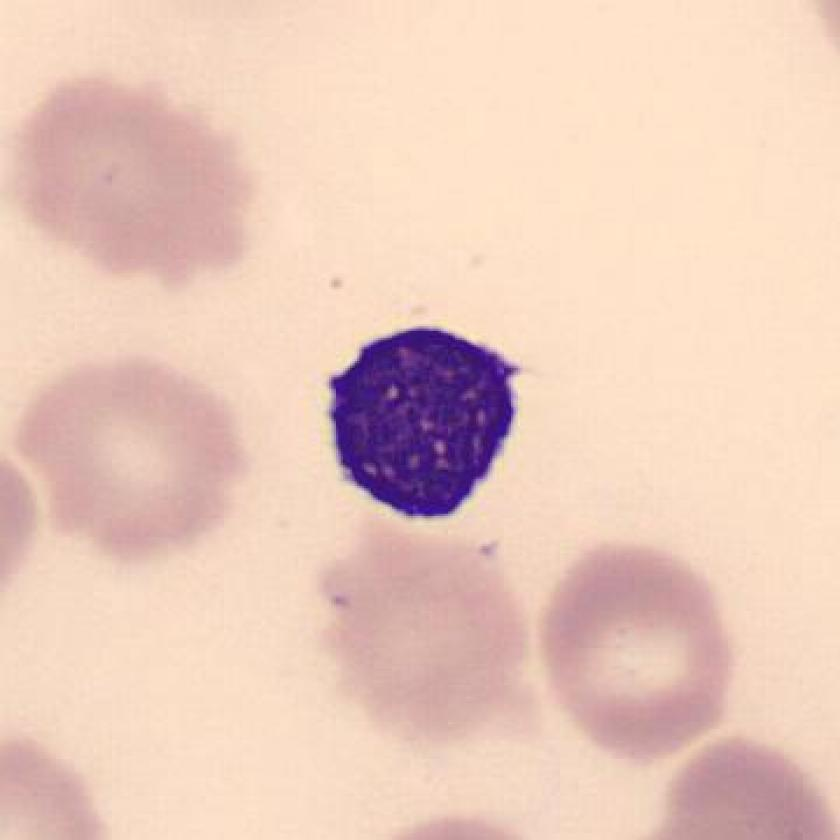lymphocyte: (307, 311, 538, 538)
